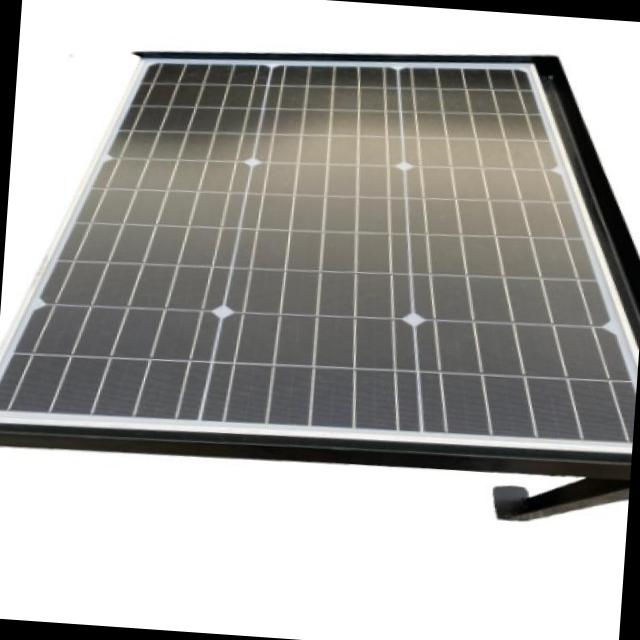no faulty: (0, 60, 636, 438)
